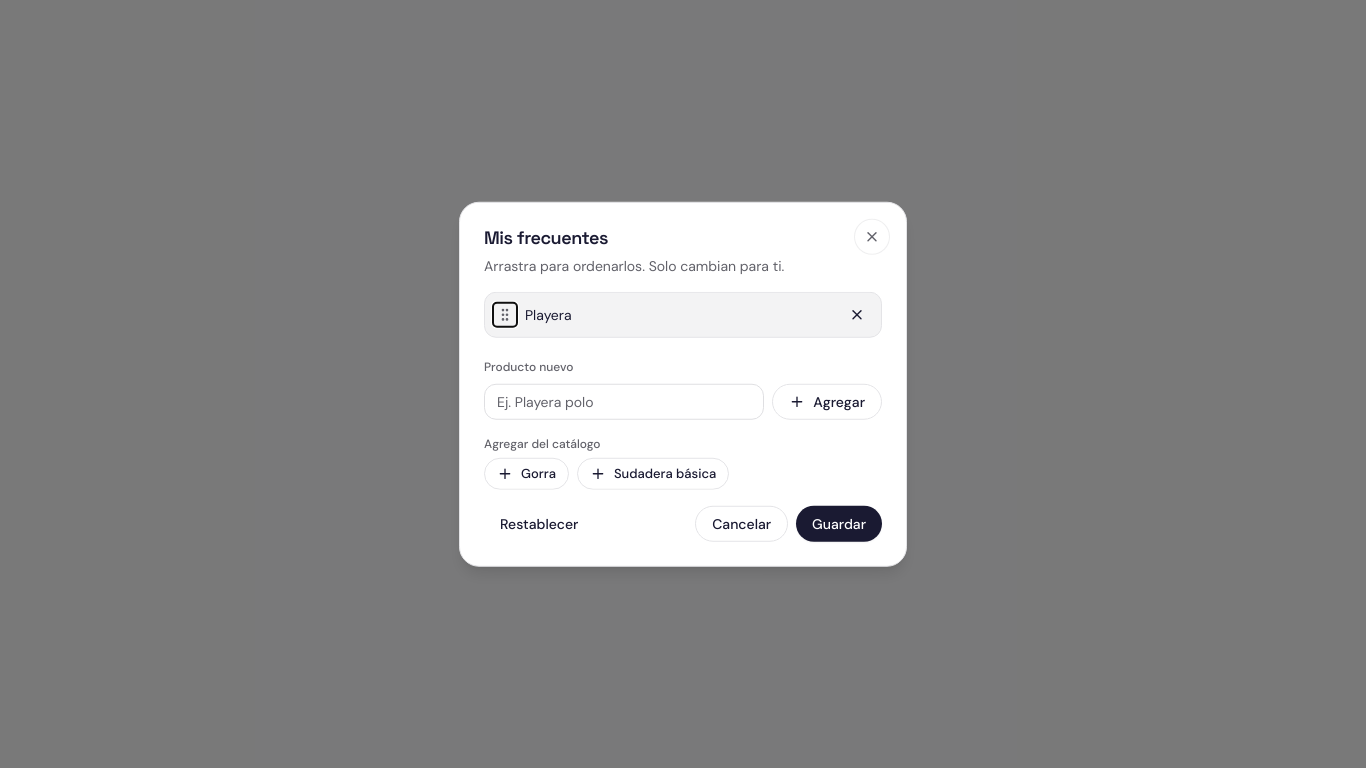
Test: CustomizeFrequentsDialog › si ya existe en el catálogo (sin importar mayúsculas ni acentos) sólo lo agrega a la lista, sin POST
Type "  SUDADERA   basica " into the field labelled "Producto nuevo" at (624, 401), box [484,383,764,419]
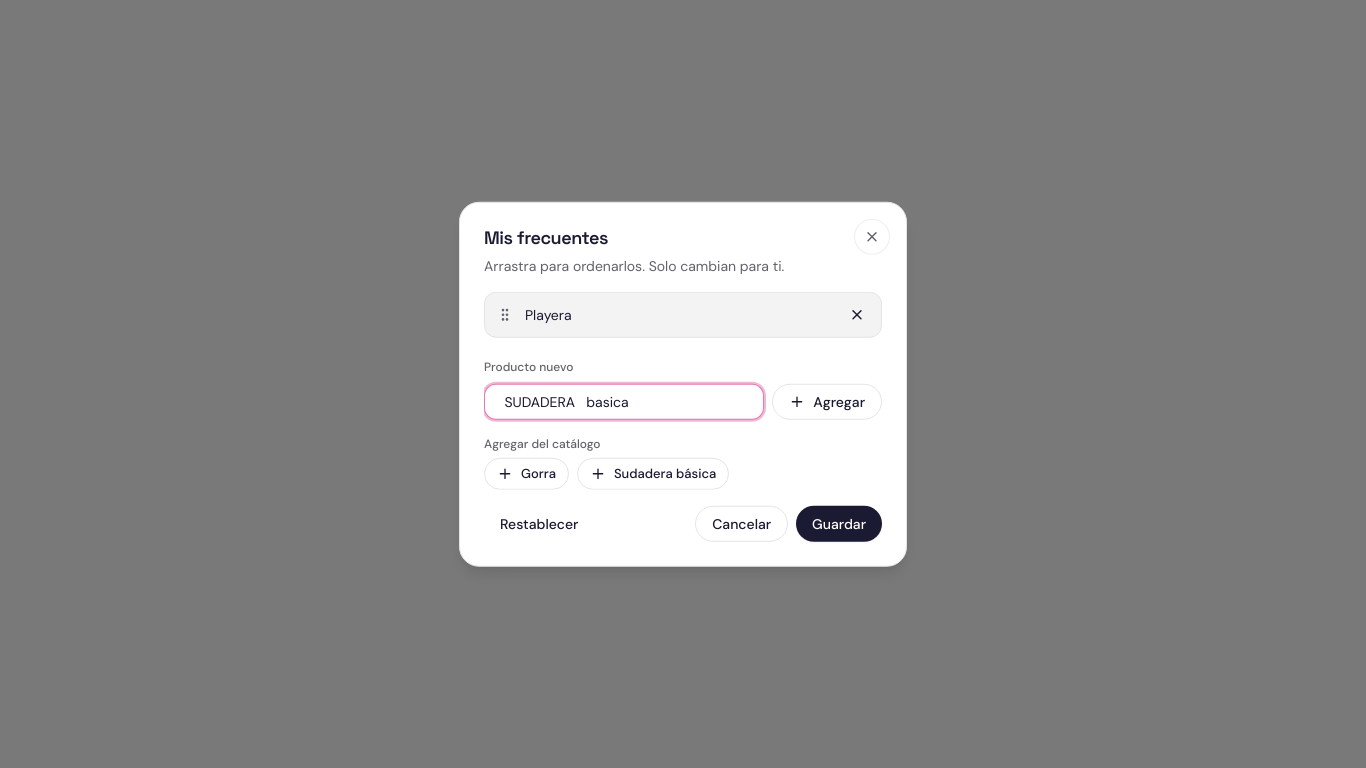
Click the button "Agregar" at (827, 401), box [772,383,882,419]
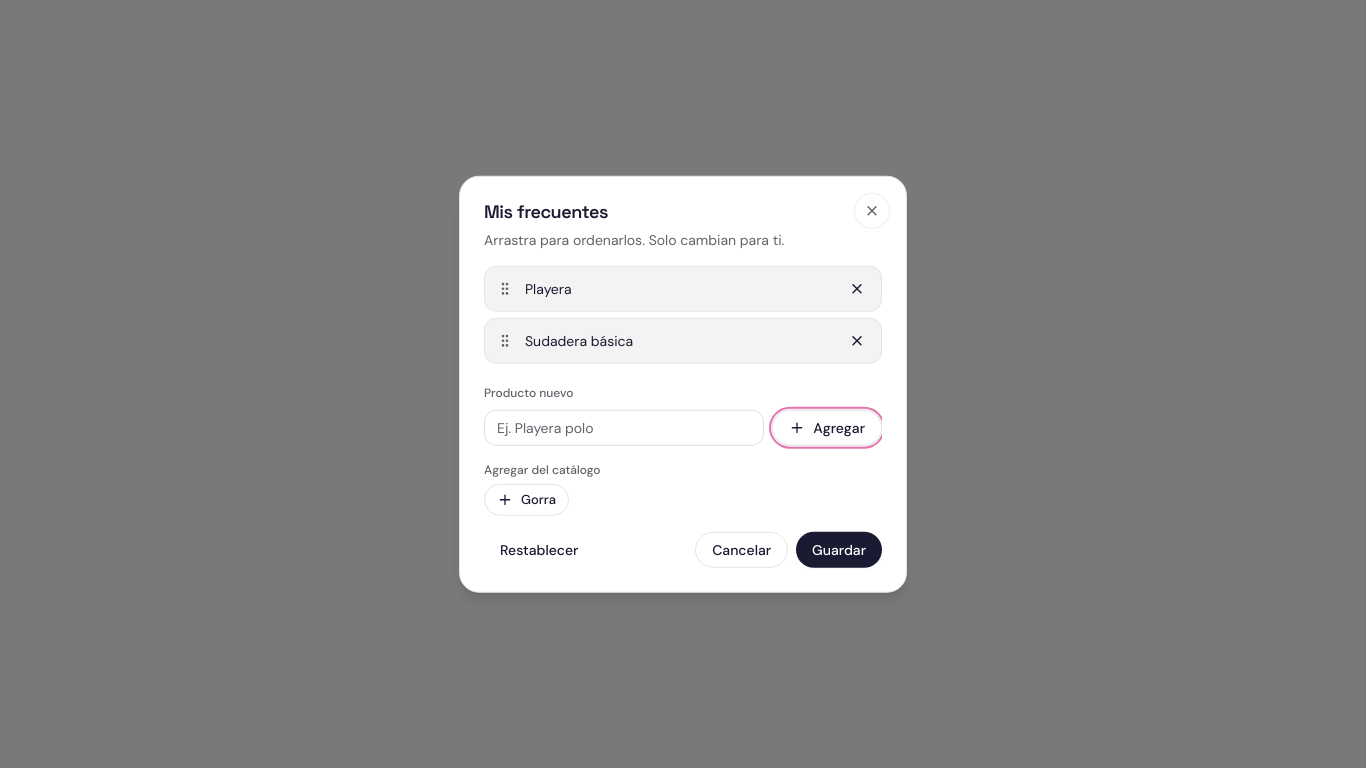
Expected: the button named "Quitar Sudadera básica" is shown, [841,324,873,356]
